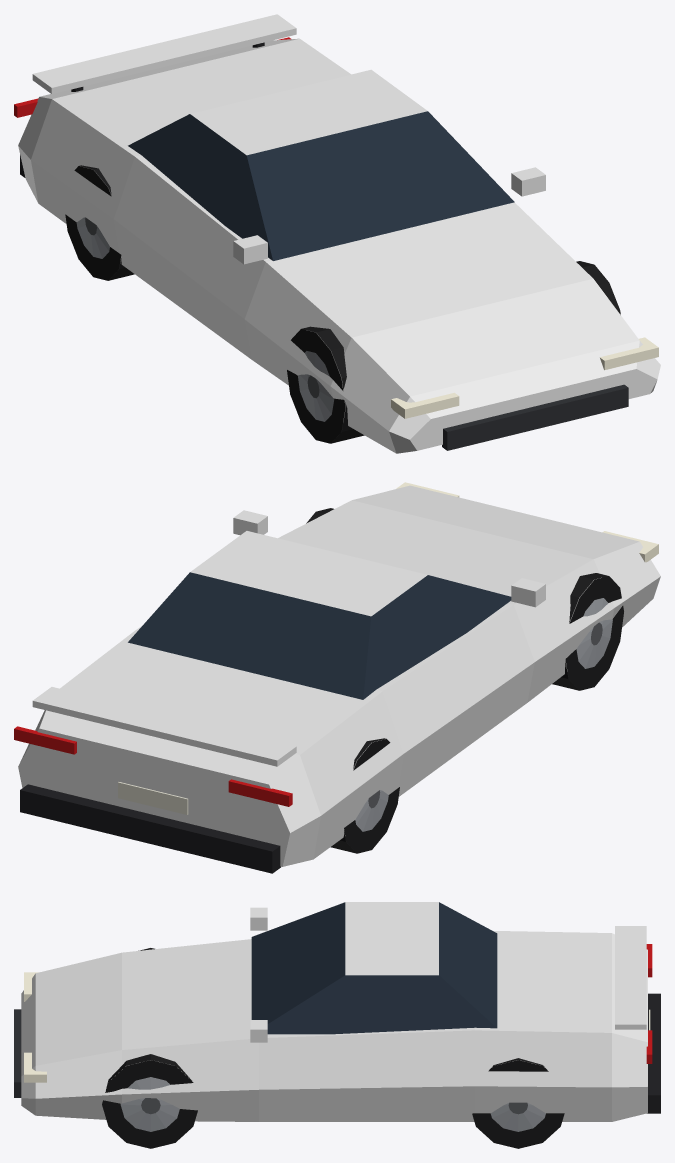
File: sports.glb
The picture shows the model from 3 angles, top to bottom: view 1: azimuth 30°, elevation 25°; view 2: azimuth 150°, elevation 25°; view 3: azimuth 270°, elevation 25°; orthographic projection. The views are drawn at different scales.
Visible parts, largest first — view 1: Body, Wheel_FR, Wheel_RR; view 2: Body, Wheel_FR, Wheel_RR; view 3: Body, Wheel_FL, Wheel_RL.
Part boxes in pixels (x1,y1,x2,y2): Body: (14,14,660,453); Wheel_FR: (287,326,364,443); Wheel_RR: (65,165,134,280); Body: (14,482,660,873); Wheel_FR: (552,573,623,690); Wheel_RR: (330,738,399,853); Body: (14,902,660,1121); Wheel_FL: (102,1054,197,1148); Wheel_RL: (472,1058,564,1148).
Bounding box in the file's own units: 2 × 1.18 × 4.49.
4 materials, 3 textured.
